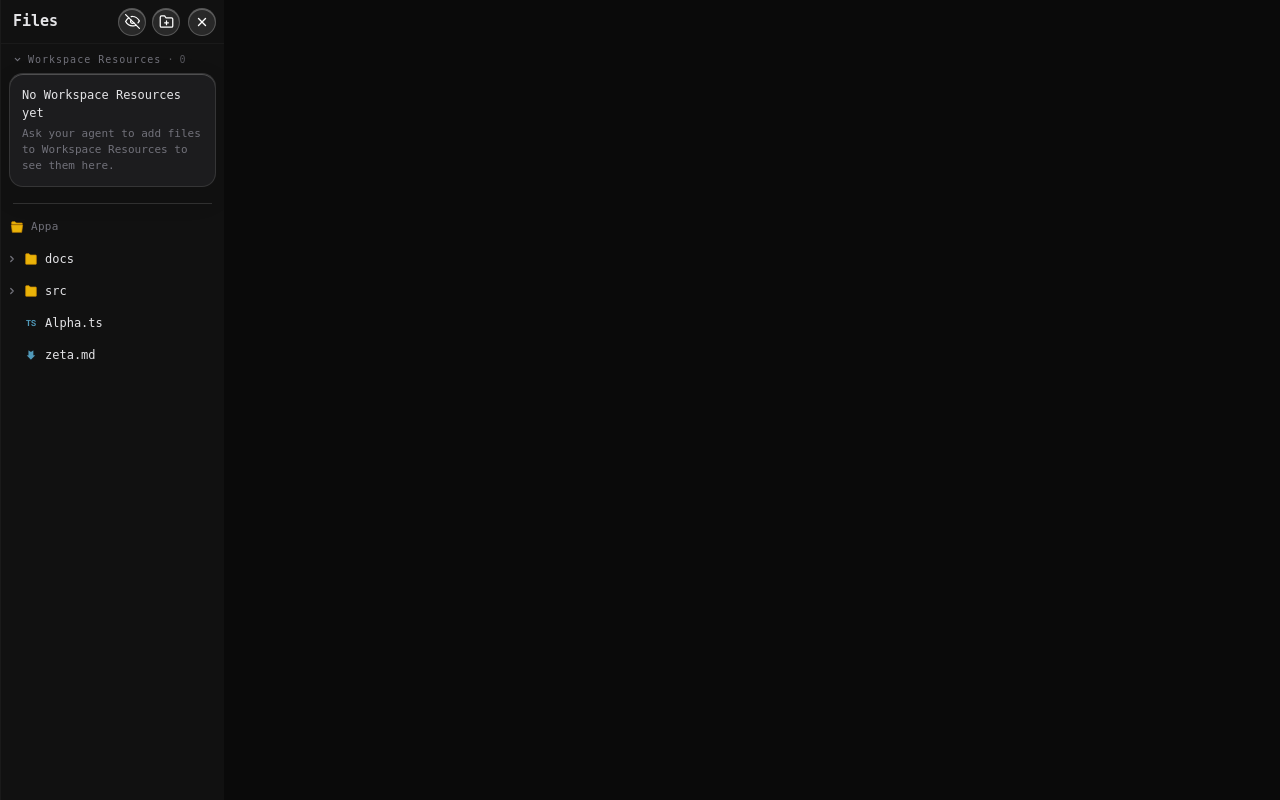
Test: + folder › creates inside the selected folder, shows the target, refreshes it
expect the text "Alpha.ts" is shown: met, box [45,316,103,330]
Click the button labelled "docs" at (112, 258), box [1,242,224,274]
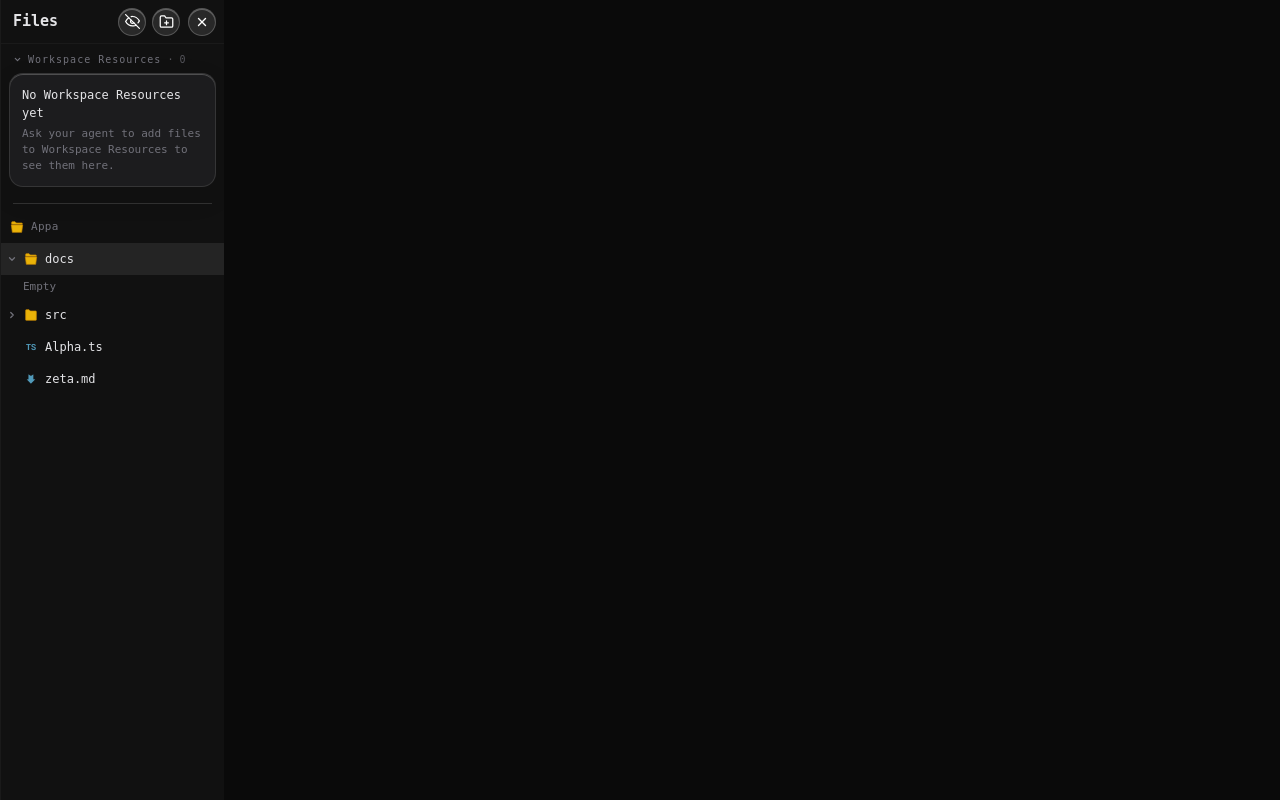
Click the button with test id "files-new-folder" at (166, 22), box [152,8,180,36]
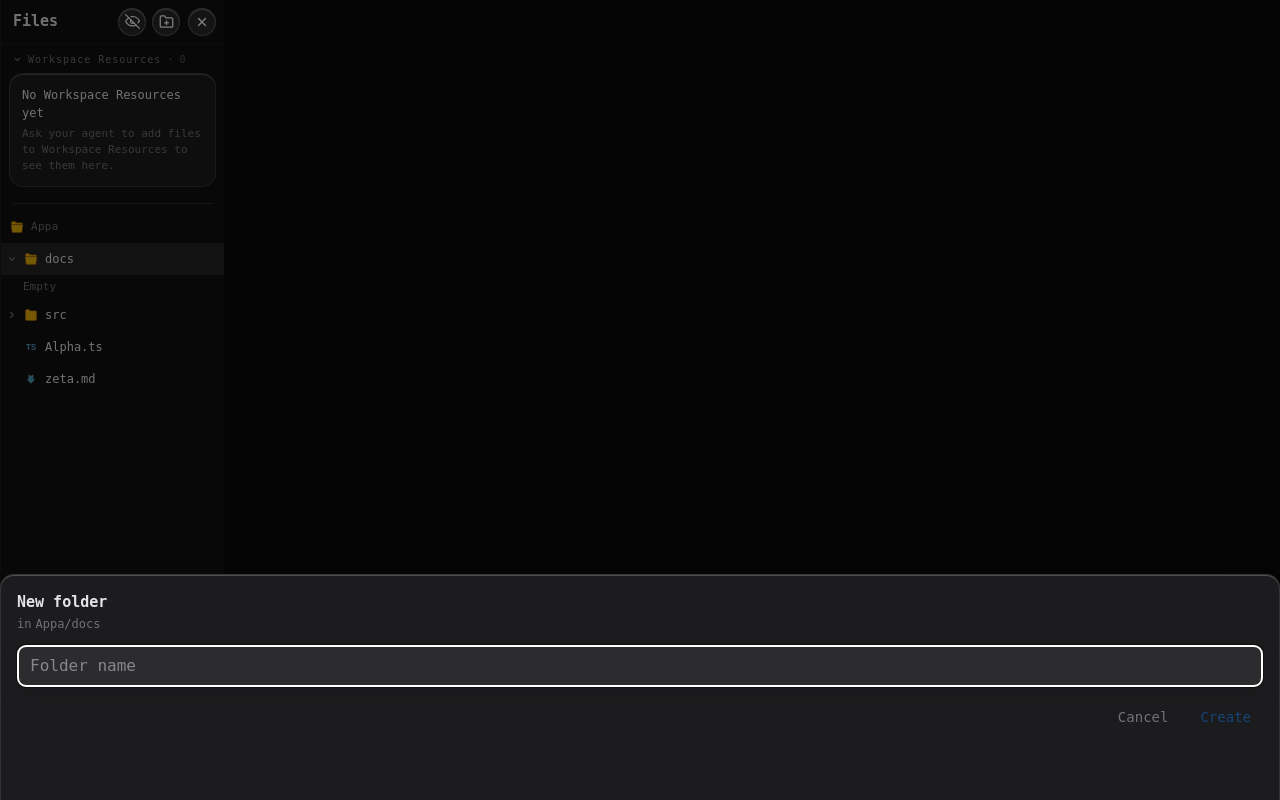
Type "notes" into the field with test id "files-name-input" at (640, 666), box [17,645,1263,687]
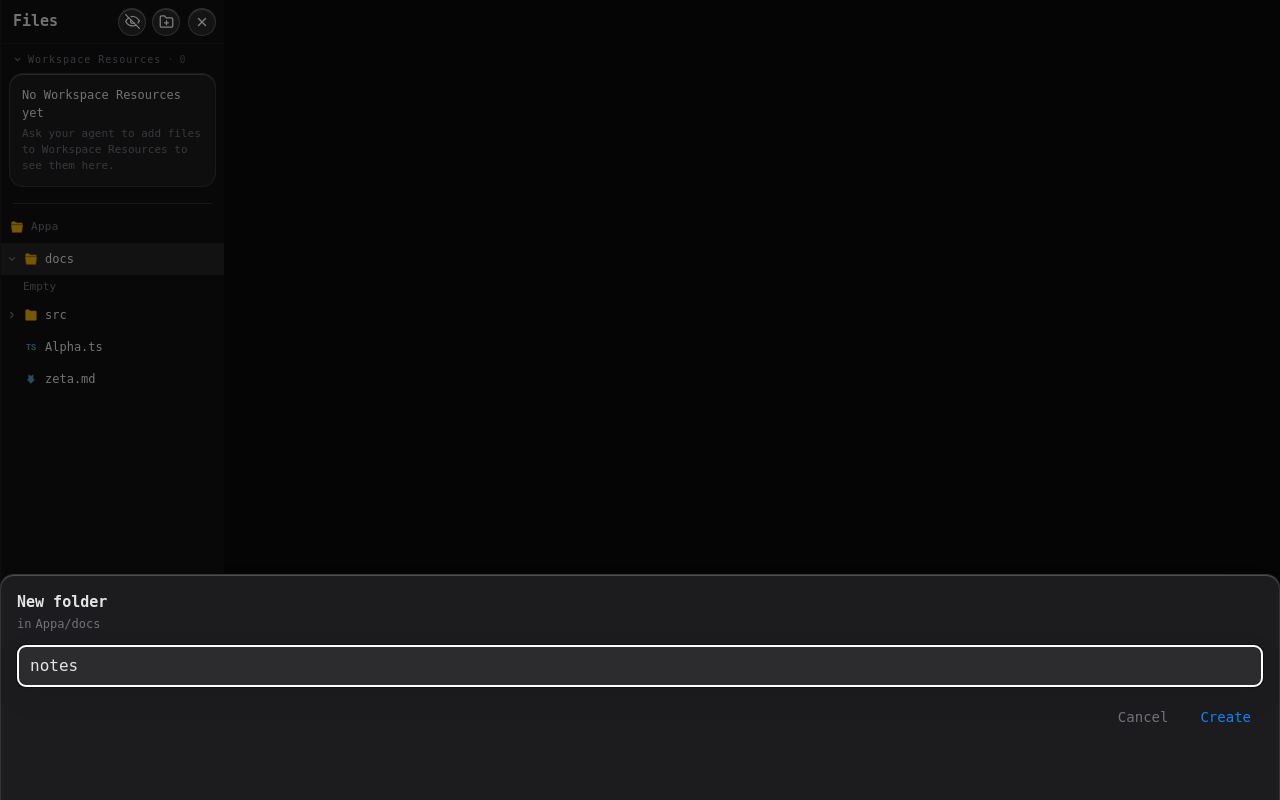
Click the button with test id "files-name-save" at (1226, 718), box [1188,699,1263,736]
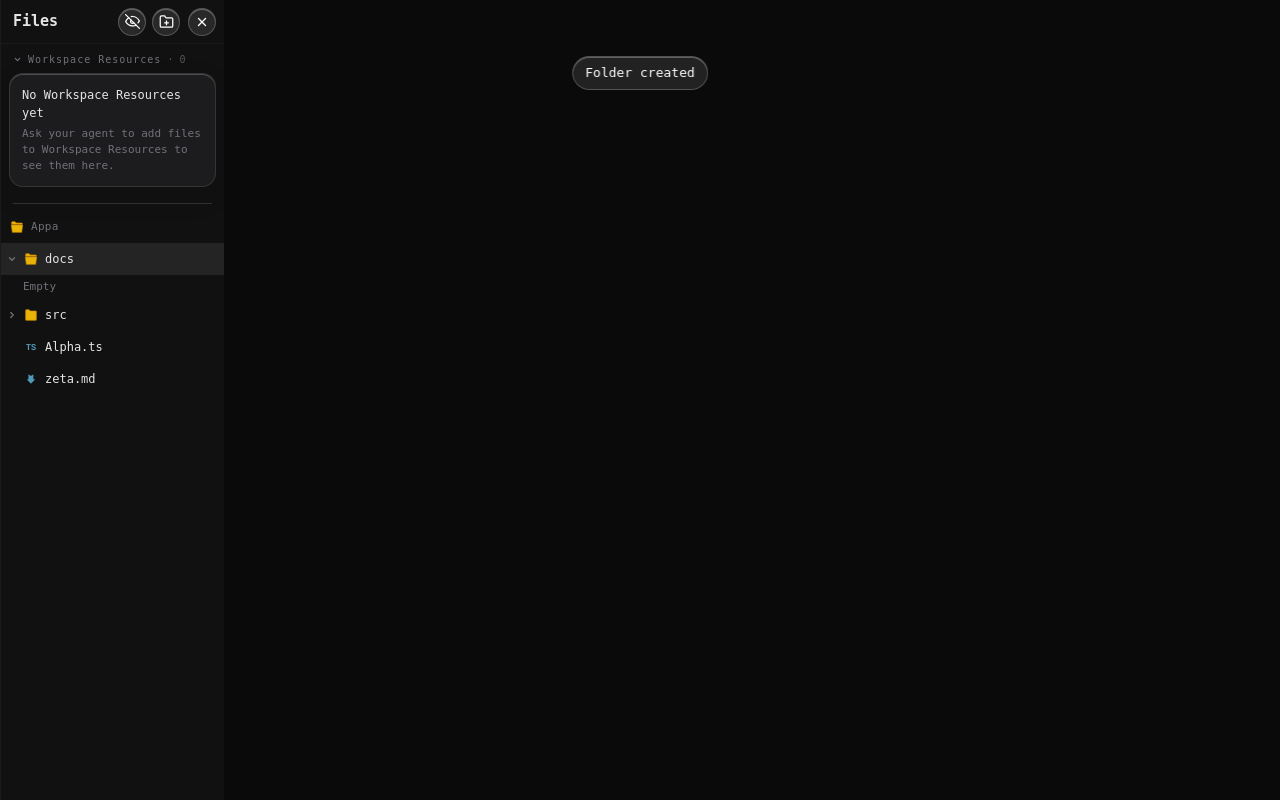
expect the element with test id "files-name-sheet" is gone: met
